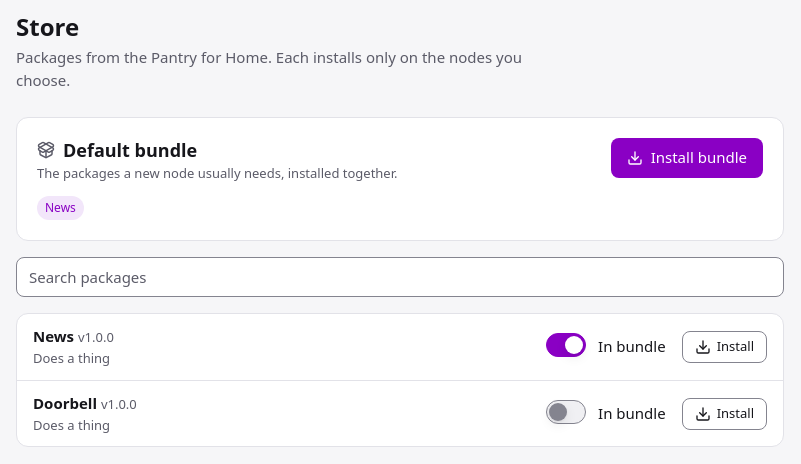
Test case: StorePage › lists the packages and keeps the default bundle
Expected: the list item with test id "package-doorbell" shows "Doorbell", [33,393,534,434]
Expected: the list named "In the bundle" reads "News", [45,199,76,216]
Click the switch named "Doorbell in the default bundle" at [566, 412], box [546,400,586,424]
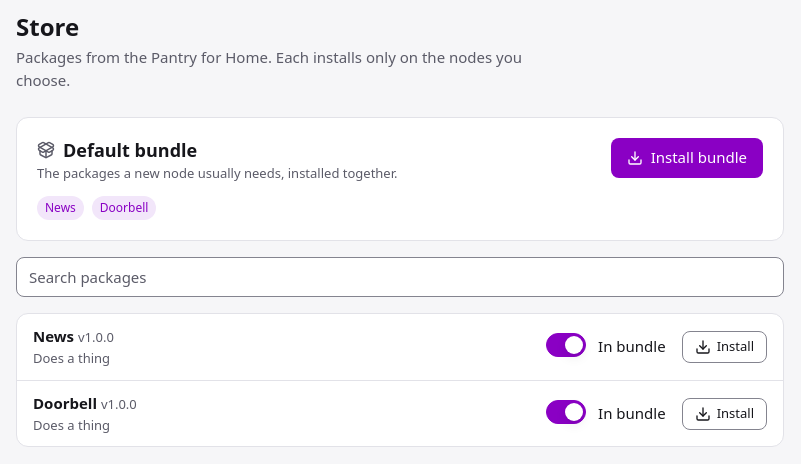
Expected: the list named "In the bundle" shows "Doorbell", [100,199,148,216]
